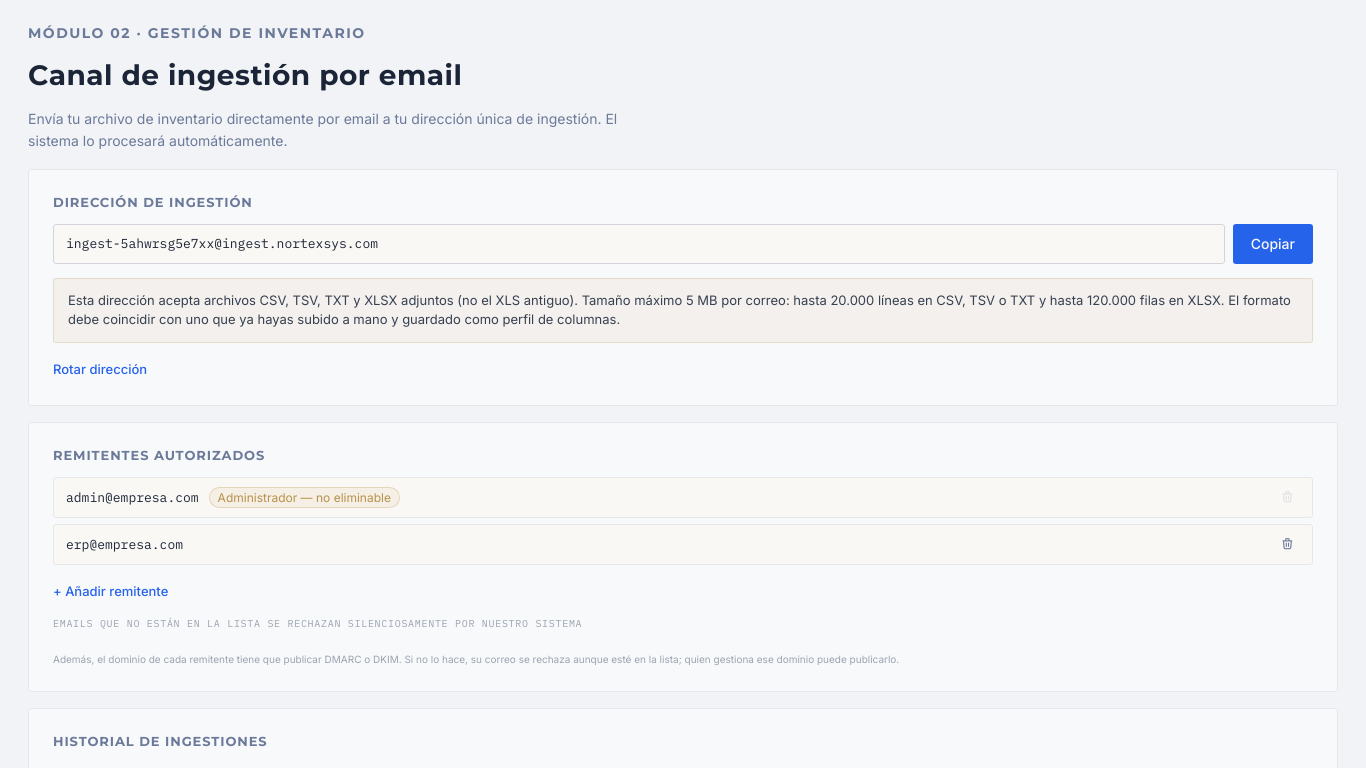
Scenario: INV-04 · IngestChannel › un error de la base al añadir se enseña tal cual
The width and height of the screenshot is (1366, 768).
Check: the field with test id "ingest-address" is shown, box [53,224,1225,264]
Click the button "+ Añadir remitente" at coordinates (111, 591), box [53,579,168,603]
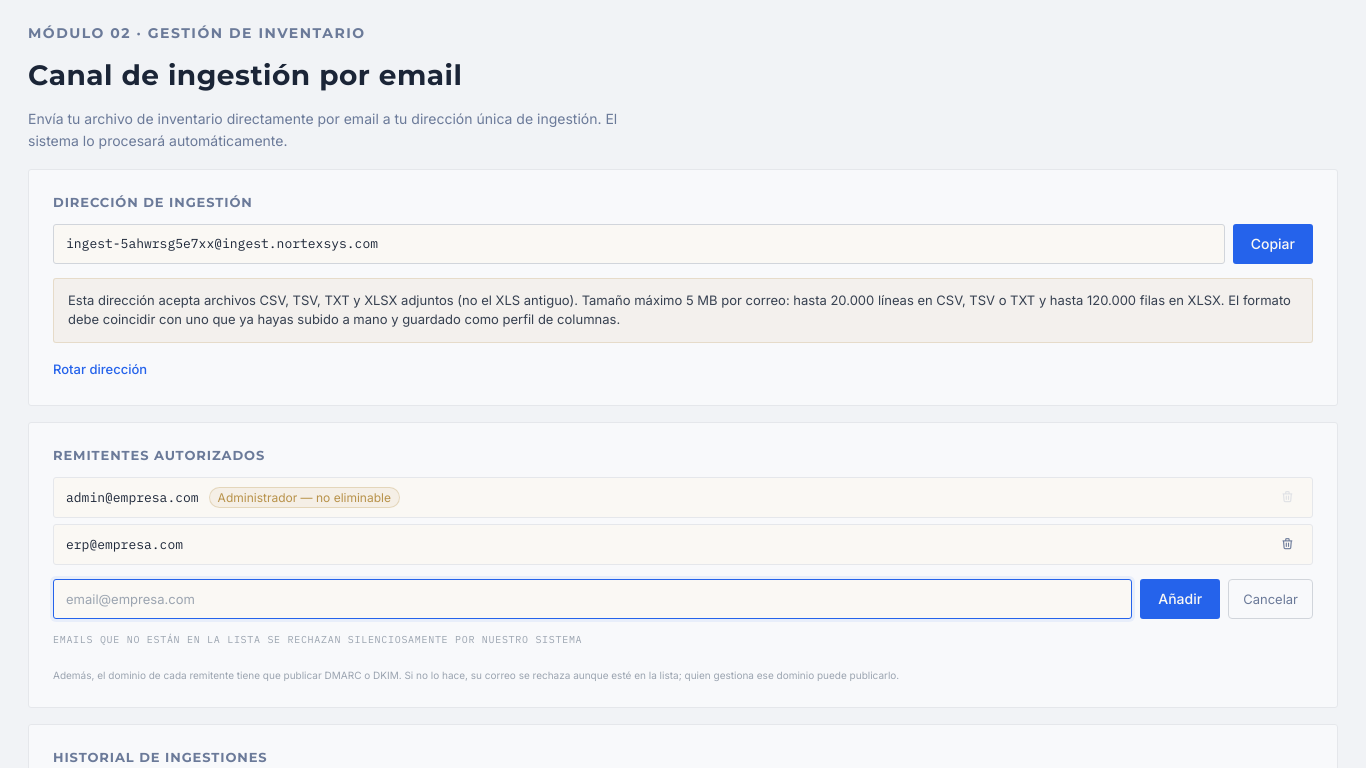
Type "otro@empresa.com" into the field named "Email del remitente" at coordinates (593, 599), box [53,579,1132,619]
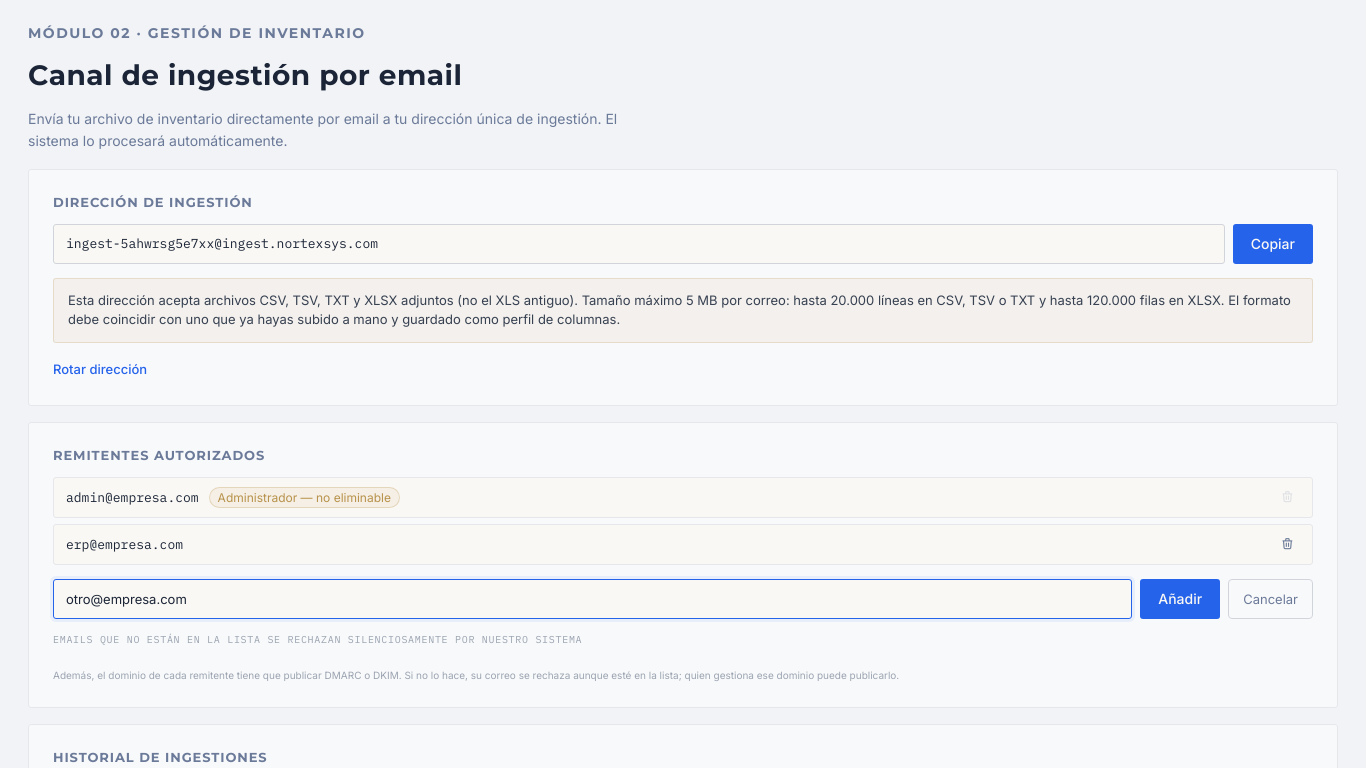
Click the button "Añadir" at coordinates (1180, 599), box [1140,579,1220,619]
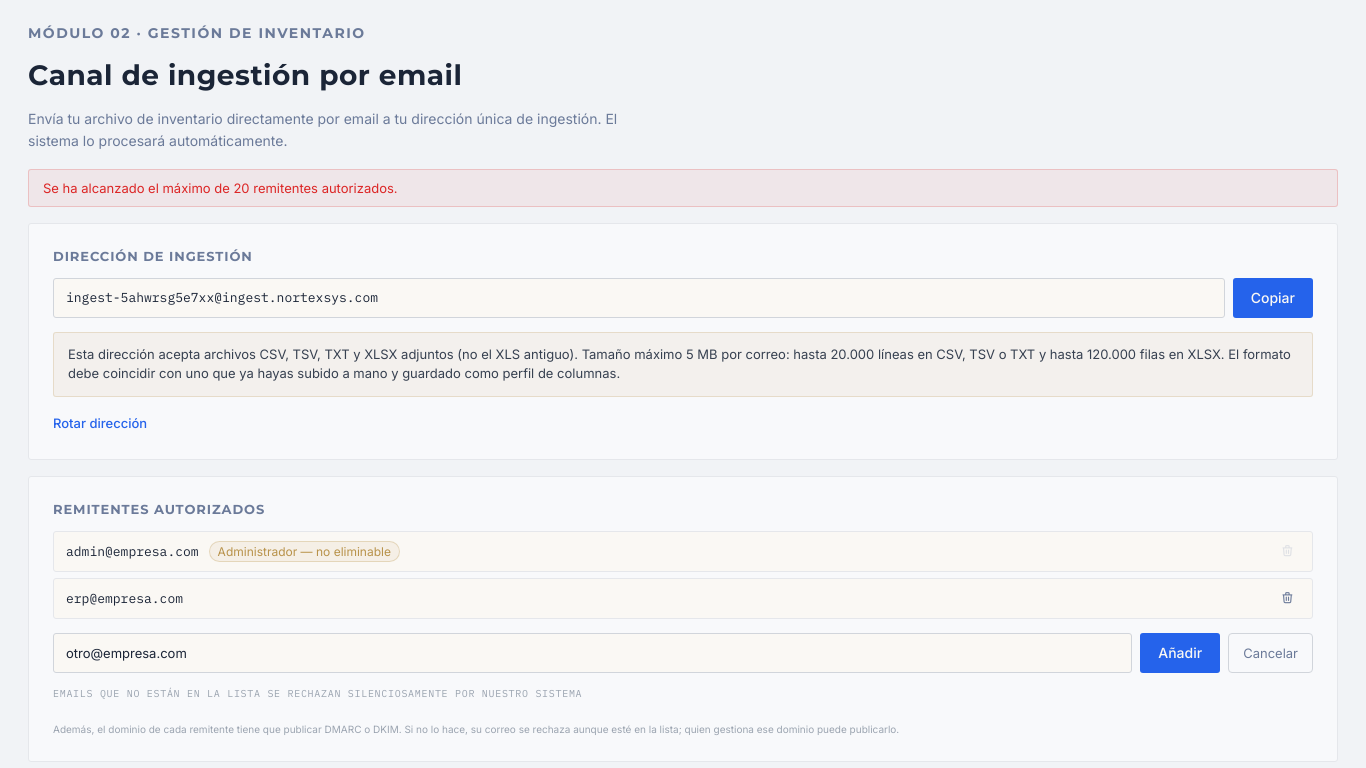
Check: the message shows "máximo de 20", box [43,180,398,196]
